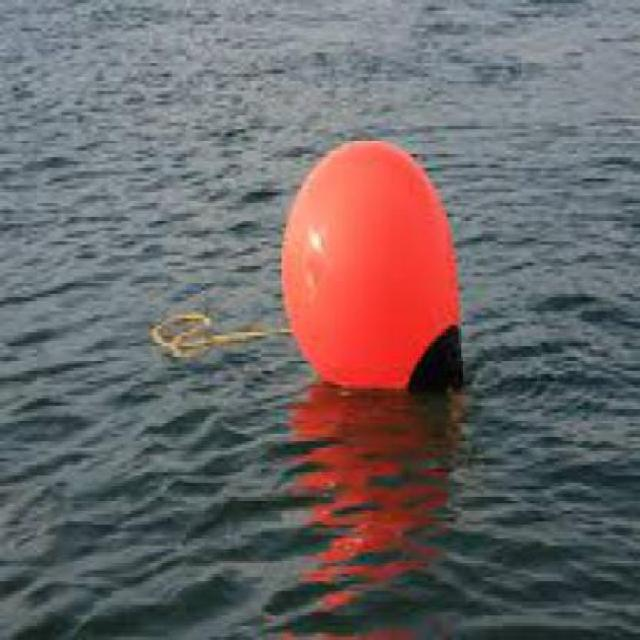buoy: (243, 92, 509, 424)
